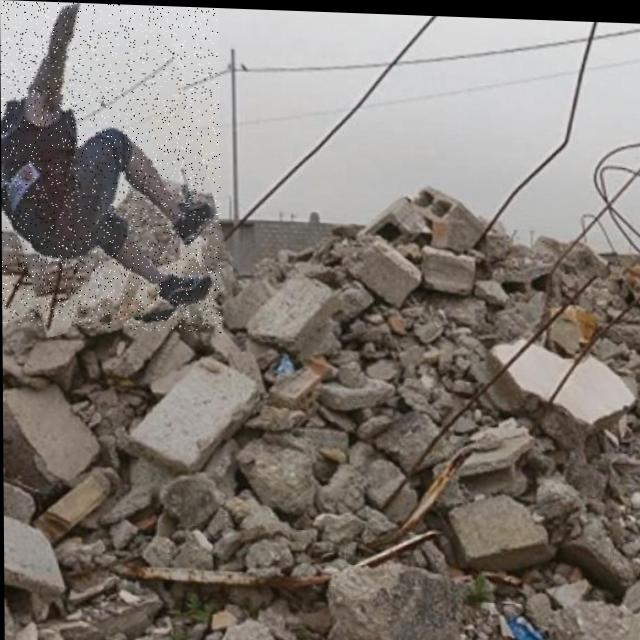Person in Rubble: (0, 0, 221, 331)
